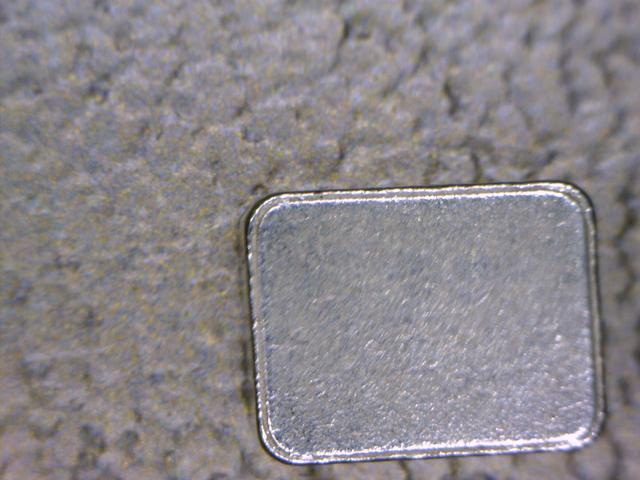nok: (235, 179, 612, 458)
